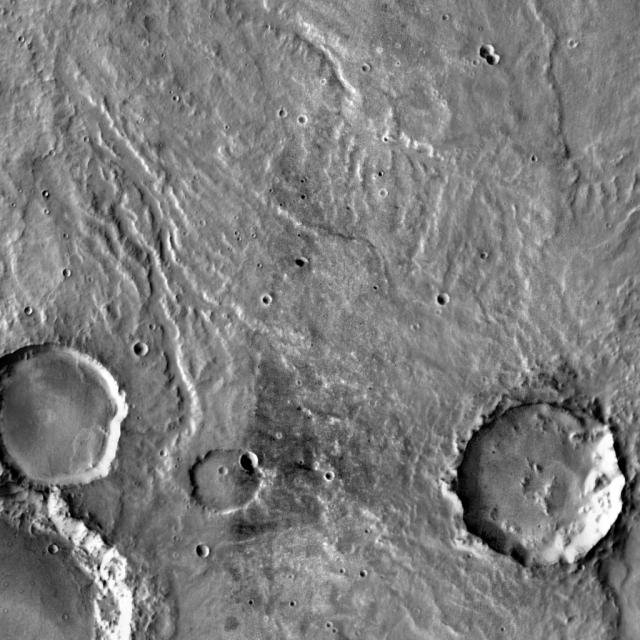crater: (459, 401, 626, 567), (0, 344, 128, 490), (192, 448, 262, 516), (393, 85, 448, 139), (242, 450, 260, 468), (145, 15, 160, 30), (480, 44, 495, 58), (196, 544, 210, 558), (134, 342, 148, 356), (488, 53, 500, 66), (70, 254, 82, 266), (438, 292, 449, 304), (50, 543, 60, 553), (300, 113, 310, 122), (299, 256, 308, 265), (363, 63, 372, 72), (279, 109, 288, 118), (220, 466, 229, 475), (327, 471, 335, 479), (261, 298, 269, 306), (58, 262, 65, 270), (354, 562, 361, 570), (381, 188, 389, 195), (154, 442, 162, 449), (20, 301, 27, 308), (320, 614, 327, 621), (571, 39, 578, 46), (572, 555, 579, 562), (12, 28, 18, 36), (526, 148, 532, 155), (144, 316, 150, 323), (138, 35, 144, 41), (437, 8, 443, 14)
